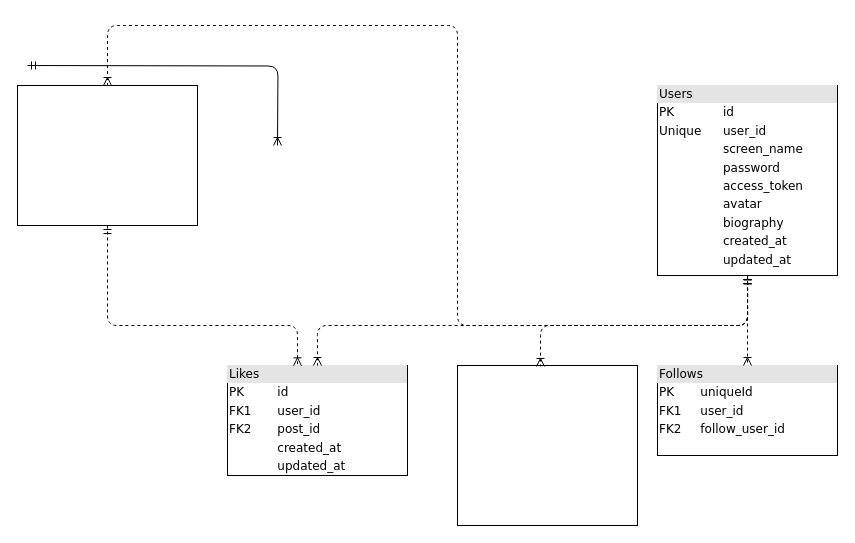
The diagram is 855 pixels wide and 543 high, and some of its shapes have lost their labels. The shapes that lost their labels are listed below. From the top down, each one's box as (x1, y1, x2, y2) in pixels, then its label:
(16, 84, 198, 226): Posts PK id FK1 user_id text images created_at updated_at
(456, 364, 638, 526): Notices PK id FK1 user_id type FK2 from_user_id text created_at updated_at
